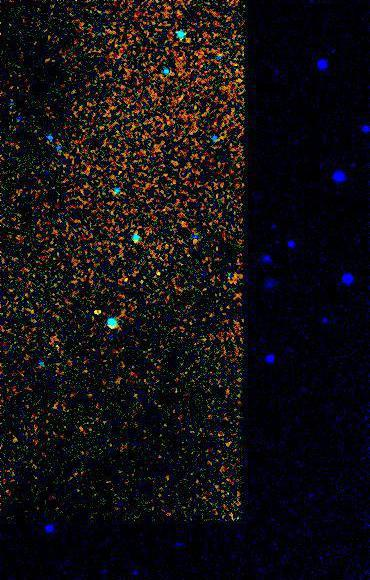star: (80, 301, 110, 331)
